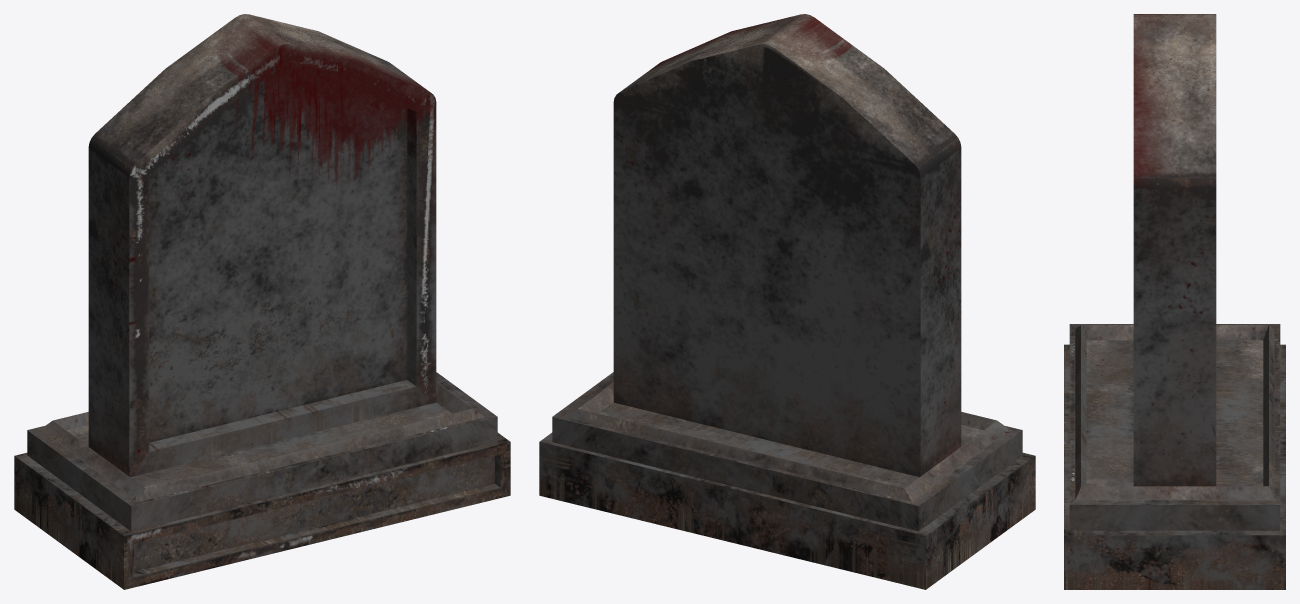
The model's file is grave.glb.
3 renders of one model, left to right at view 1: azimuth 30°, elevation 25°; view 2: azimuth 150°, elevation 25°; view 3: azimuth 270°, elevation 25°, orthographic.
Parts seen in each view (by area): view 1: pCube3; view 2: pCube3; view 3: pCube3.
Part boxes in pixels (x1,y1,x2,y2): pCube3: (14, 14, 510, 589); pCube3: (539, 14, 1035, 589); pCube3: (1064, 14, 1285, 589).
Bounding box in the file's own units: 38.94 × 45.57 × 19.15.
Materials: 1 (1 with a texture image).
